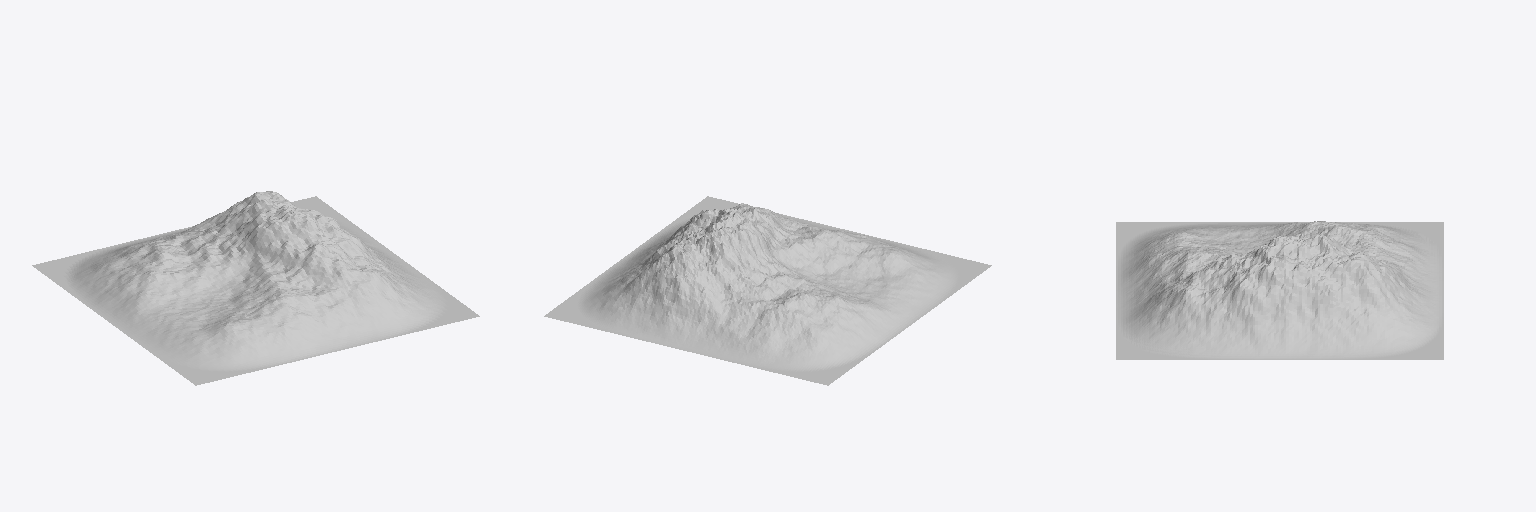
The picture shows the model from 3 angles: view 1: azimuth 30°, elevation 25°; view 2: azimuth 150°, elevation 25°; view 3: azimuth 270°, elevation 25°; orthographic projection.
Visible parts, largest first — view 1: Landscape; view 2: Landscape; view 3: Landscape.
Part boxes in pixels (left/top/right/bottom): Landscape: left=32, top=191, right=479, bottom=385; Landscape: left=544, top=196, right=991, bottom=385; Landscape: left=1116, top=221, right=1443, bottom=359.
Size of the model in its own units: 2 by 0.47 by 2.